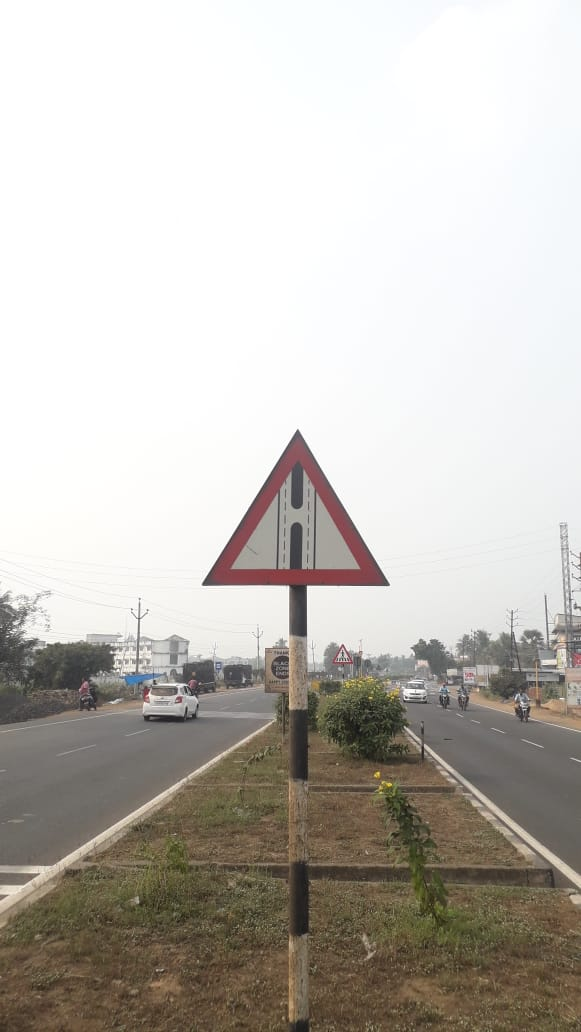highway go straight: (190, 419, 425, 643)
